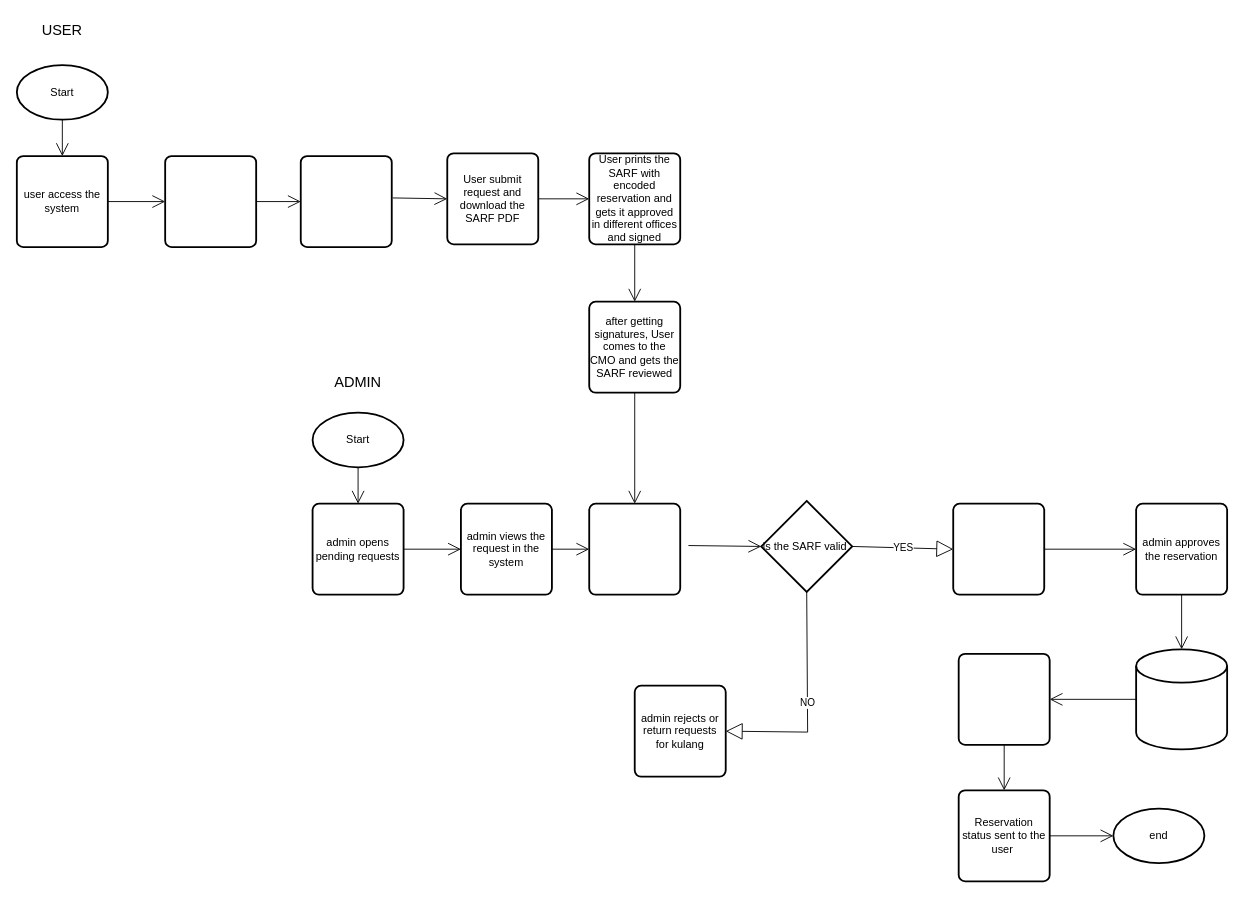
The diagram is 1243 pixels wide and 897 high, and some of its shapes have lost their labels. Here are the shapes that lost their labels. From the top down, the box of each, then its label:
(164, 155, 257, 248): creates a SARF
(299, 155, 392, 248): user fills out the form
(588, 502, 681, 595): admin checks the physical SARF signatures
(952, 502, 1045, 595): admin tick the checkboxes signed
(957, 652, 1050, 745): Admin updates the room availability
(1135, 648, 1228, 750): reservation gets saved
